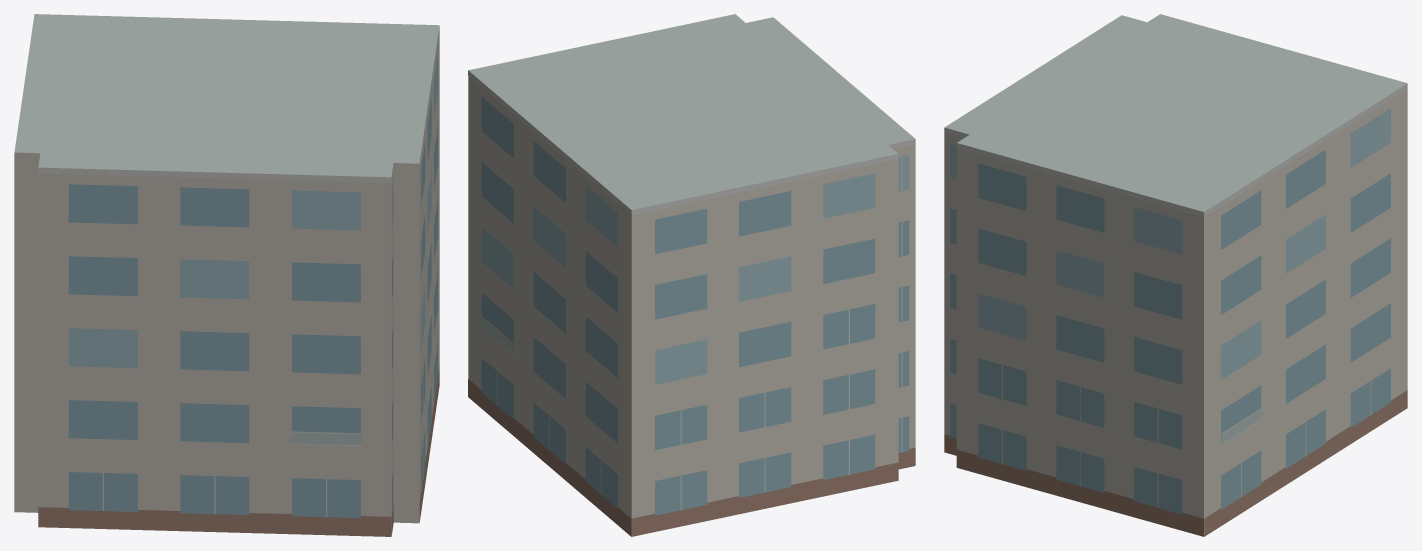
Rendered from survey-upis-32785304.glb.
3 renders of one model, left to right at view 1: azimuth 30°, elevation 25°; view 2: azimuth 150°, elevation 25°; view 3: azimuth 270°, elevation 25°, orthographic. The views are drawn at different scales.
Visible parts, largest first — view 1: survey-upis-32785304.tmp; view 2: survey-upis-32785304.tmp; view 3: survey-upis-32785304.tmp.
Boxes of the visible parts, box(x1,y1,x2,y2) form: survey-upis-32785304.tmp: box(14, 14, 439, 536); survey-upis-32785304.tmp: box(468, 14, 915, 536); survey-upis-32785304.tmp: box(944, 14, 1407, 536).
Bounding box in the file's own units: 19.95 × 15.25 × 19.73.
